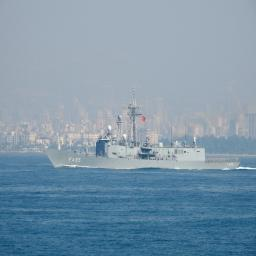Fragata: (42, 88, 243, 173)
